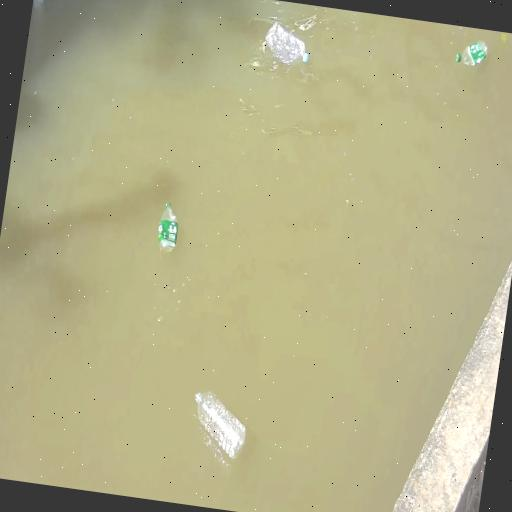plastic: (196, 392, 246, 459), (265, 22, 308, 66), (157, 202, 178, 258), (456, 40, 487, 66)
